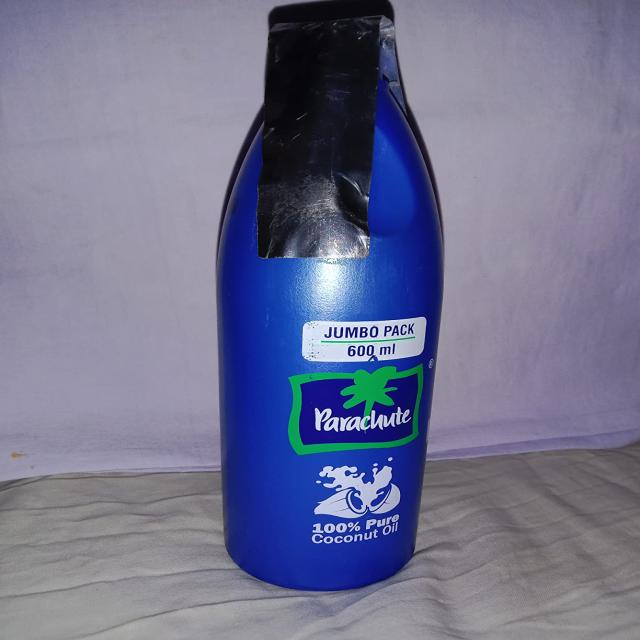parachute_oil: (197, 9, 465, 595)
